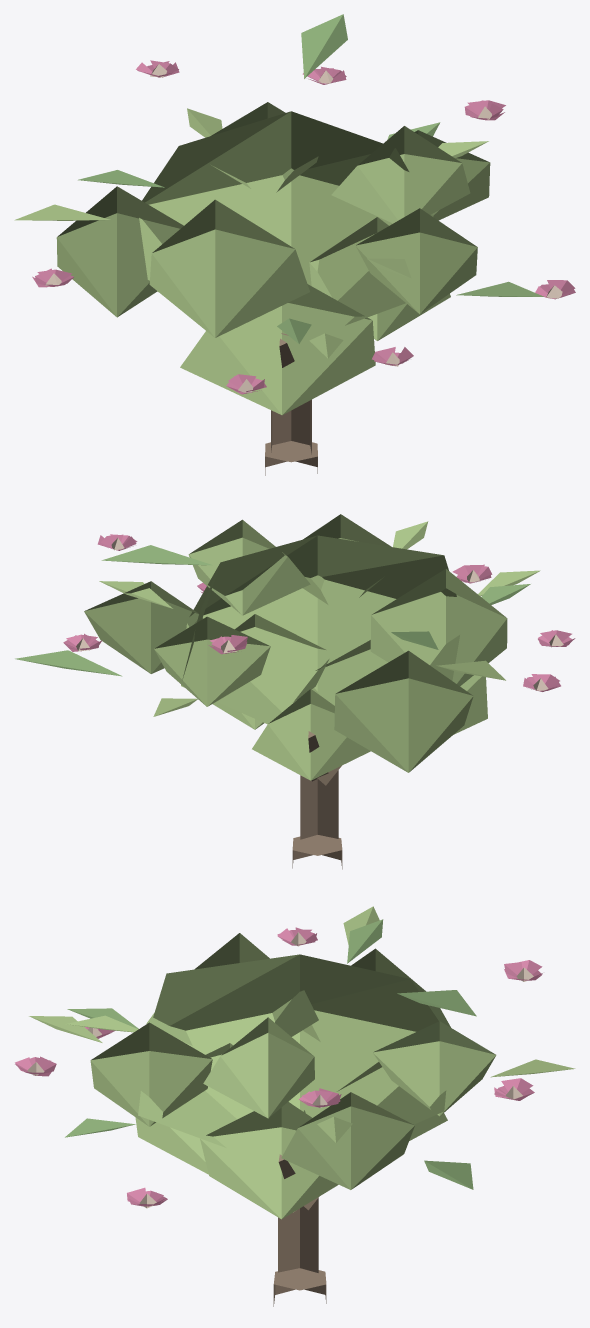
Rendered from shu.ganju@flowering__spring.glb.
3 views of the same model, one above another, from view 1: azimuth 30°, elevation 25°; view 2: azimuth 150°, elevation 25°; view 3: azimuth 270°, elevation 25° (orthographic). The views are drawn at different scales.
Parts seen in each view (by area): view 1: shu.ganju@flowering__spring; view 2: shu.ganju@flowering__spring; view 3: shu.ganju@flowering__spring.
Boxes of the visible parts, box(x1,y1,x2,y2) form: shu.ganju@flowering__spring: box(14, 14, 575, 475); shu.ganju@flowering__spring: box(15, 514, 575, 869); shu.ganju@flowering__spring: box(15, 906, 575, 1306).
Size of the model in its own units: 7.36 by 5.12 by 7.37.
